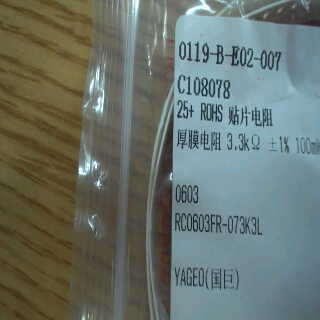3.3kO: (224, 130, 263, 160)
